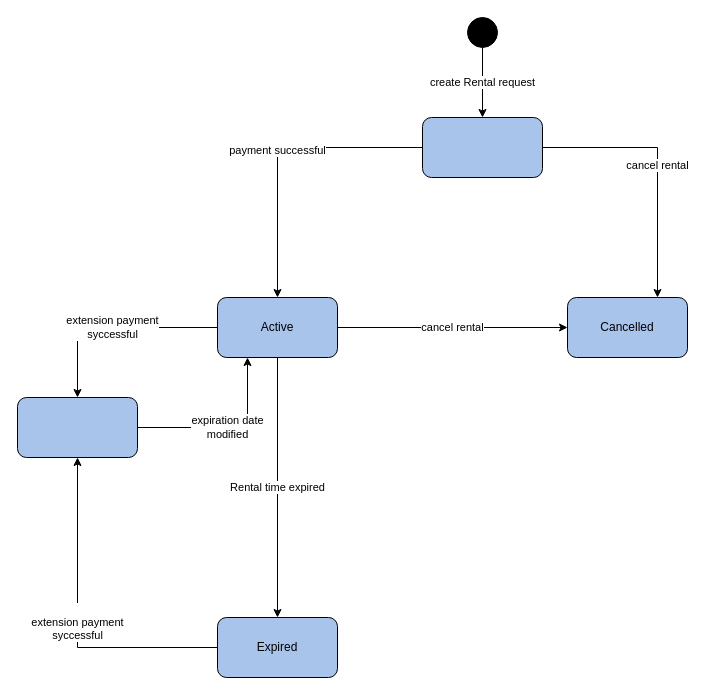
This 706x695 diagram has some shape labels left out. Here are the shapes that lost their labels. From the top down, the box of each, then its label:
(422, 116, 542, 178): Created
(16, 396, 138, 458): Extended
